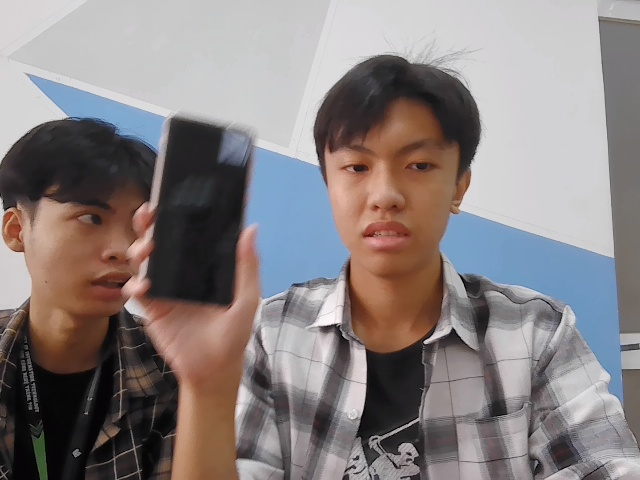human: (317, 57, 484, 273), (7, 115, 154, 329)
phone: (138, 102, 254, 326)
